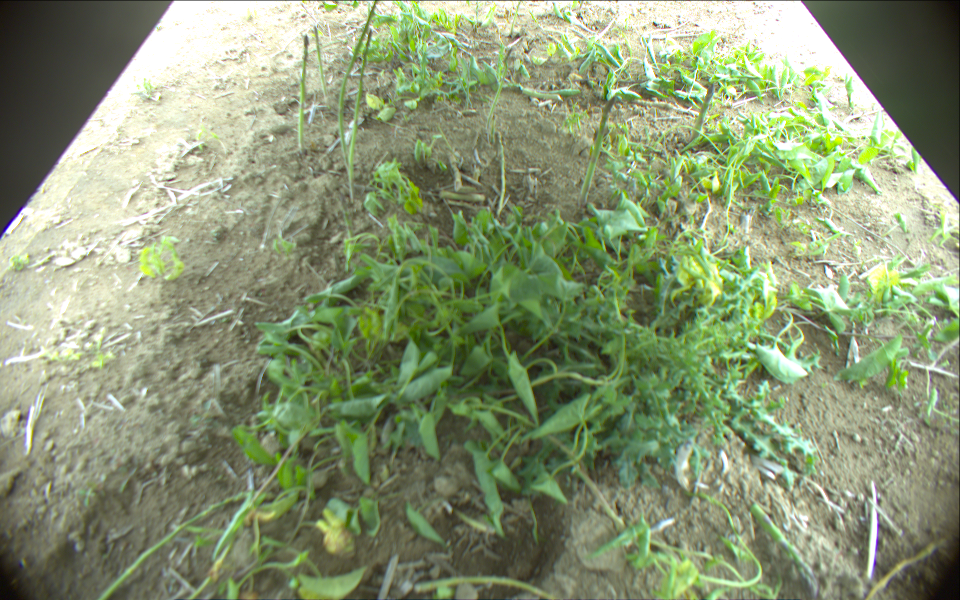aspa: (338, 1, 379, 168), (347, 29, 375, 202), (576, 95, 616, 206), (690, 81, 715, 145), (297, 34, 310, 148), (312, 25, 328, 105)
